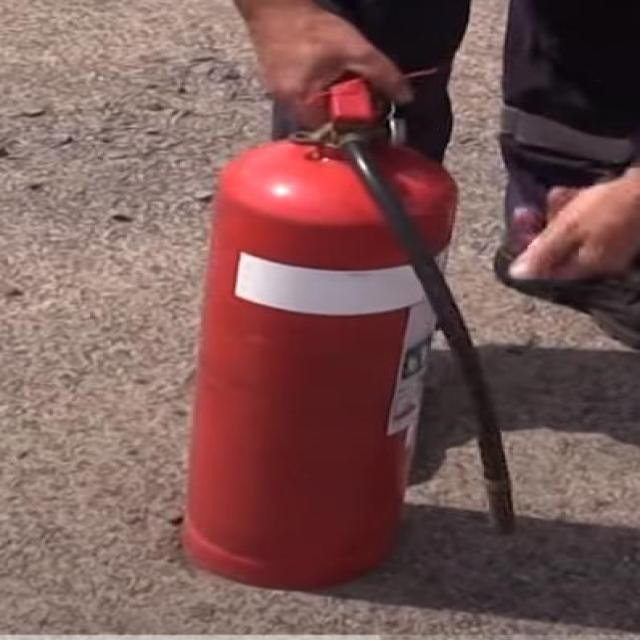fire_extinguisher: (162, 61, 532, 596)
